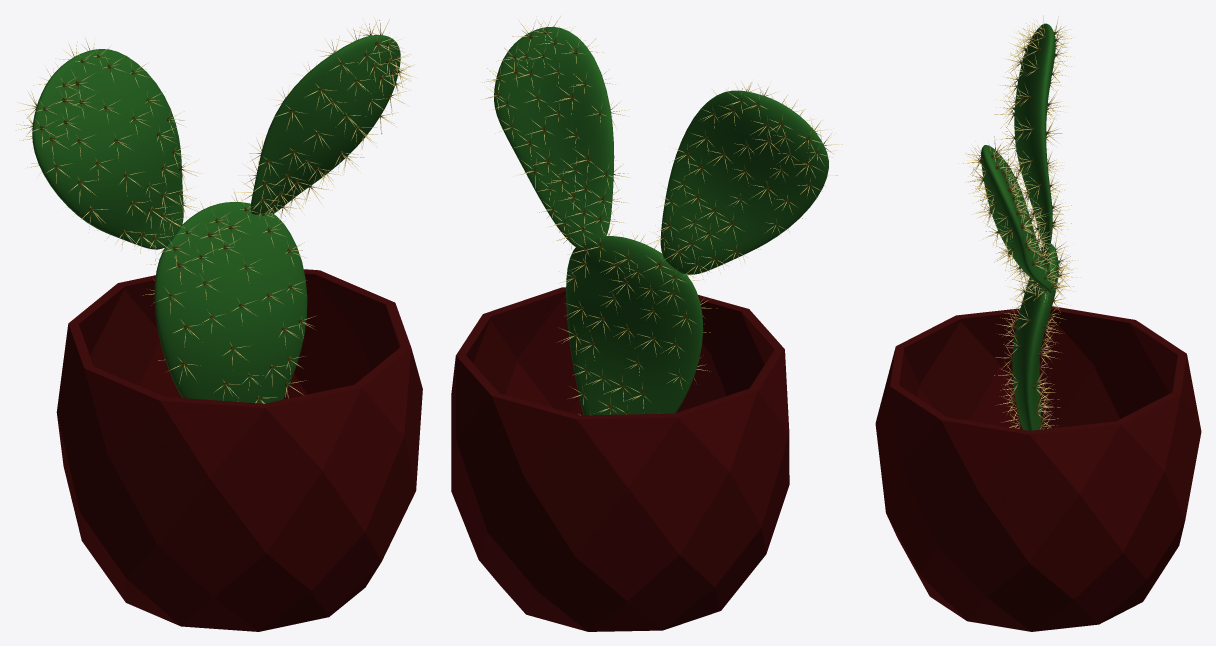
Rendered from OPUNTIA_MICRODASYS_PORCELAIN_DIAMOND_POT.glb.
3 renders of one model, left to right at view 1: azimuth 30°, elevation 25°; view 2: azimuth 150°, elevation 25°; view 3: azimuth 270°, elevation 25°, orthographic. The views are drawn at different scales.
Parts seen in each view (by area): view 1: DiamondPlanterHole, Pear Cactus1, Pear Cactus4, Pear Cactus3; view 2: DiamondPlanterHole, Pear Cactus4, Pear Cactus1, Pear Cactus3; view 3: DiamondPlanterHole, Pear Cactus4, Pear Cactus1, Pear Cactus3.
Part boxes in pixels (x1=…): DiamondPlanterHole: x1=56, y1=269, x2=422, y2=631; Pear Cactus1: x1=154, y1=202, x2=307, y2=403; Pear Cactus4: x1=32, y1=49, x2=183, y2=249; Pear Cactus3: x1=250, y1=35, x2=400, y2=214; DiamondPlanterHole: x1=451, y1=287, x2=789, y2=631; Pear Cactus4: x1=660, y1=90, x2=828, y2=274; Pear Cactus1: x1=566, y1=236, x2=703, y2=415; Pear Cactus3: x1=494, y1=26, x2=614, y2=249; DiamondPlanterHole: x1=875, y1=306, x2=1201, y2=631; Pear Cactus4: x1=1014, y1=23, x2=1055, y2=245; Pear Cactus1: x1=1012, y1=243, x2=1058, y2=430; Pear Cactus3: x1=981, y1=145, x2=1051, y2=293.
Size of the model in its own units: 1.17 by 1.66 by 0.977.
Materials: 4 (2 with a texture image).
